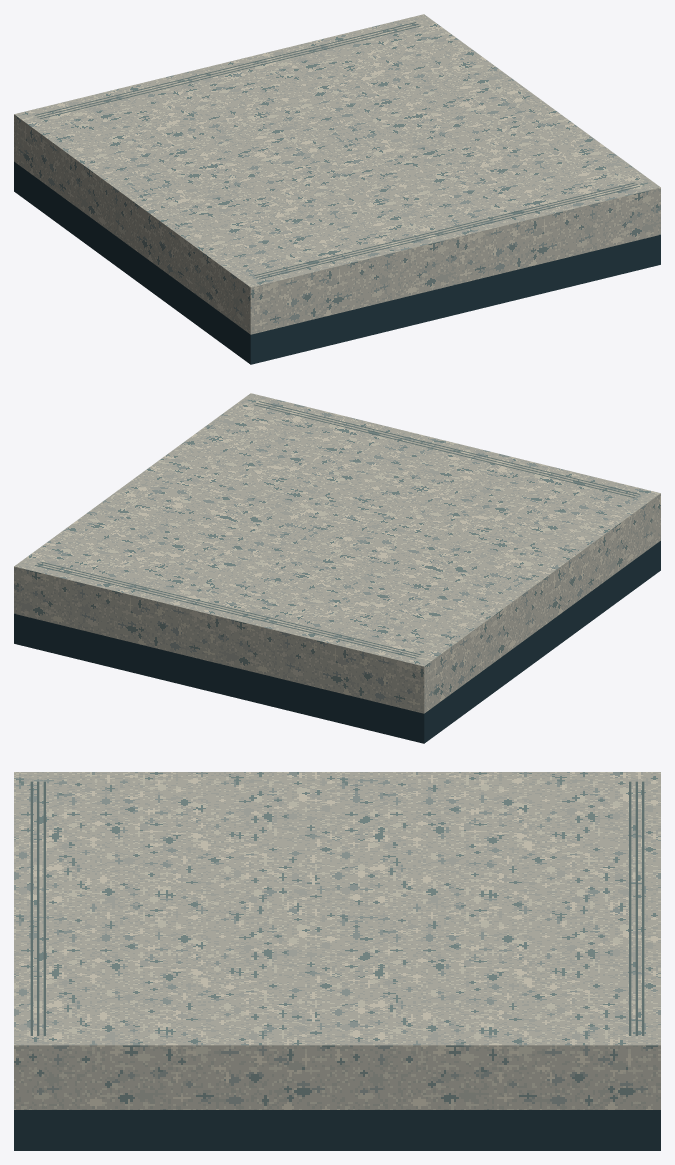
File: mid_lift_platform.glb
3 renders of one model, top to bottom at view 1: azimuth 30°, elevation 25°; view 2: azimuth 150°, elevation 25°; view 3: azimuth 270°, elevation 25°, orthographic. The views are drawn at different scales.
Parts seen in each view (by area): view 1: b_platform_lift; view 2: b_platform_lift; view 3: b_platform_lift.
Part boxes in pixels (<box>): b_platform_lift: <box>14,14,660,364</box>; b_platform_lift: <box>14,393,660,743</box>; b_platform_lift: <box>14,772,660,1150</box>.
Size of the model in its own units: 2 by 0.36 by 2.
Materials: 3 (1 with a texture image).
